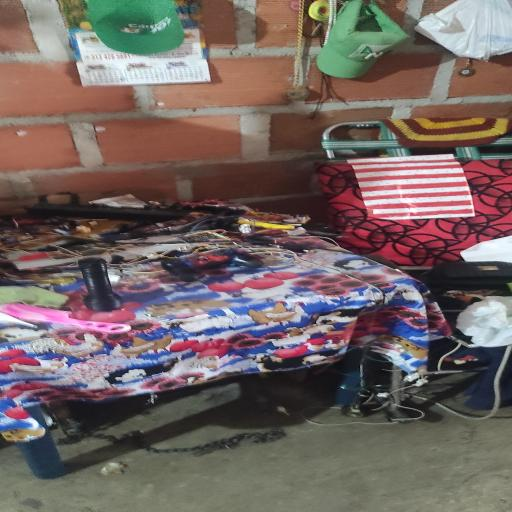ControlPlay4: (162, 246, 265, 281)
